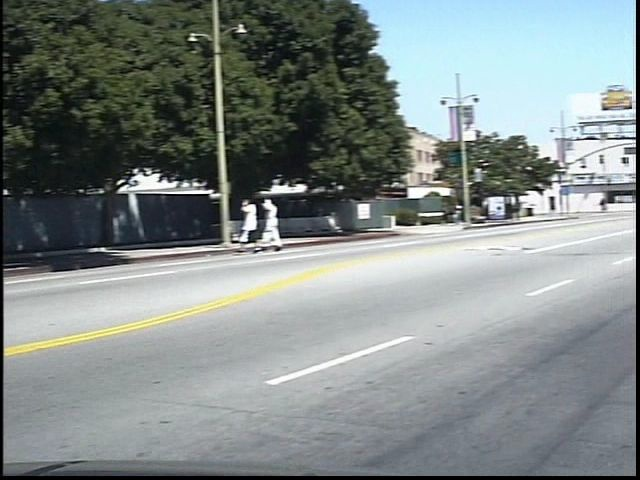person: (273, 196, 299, 256), (253, 194, 278, 256)
